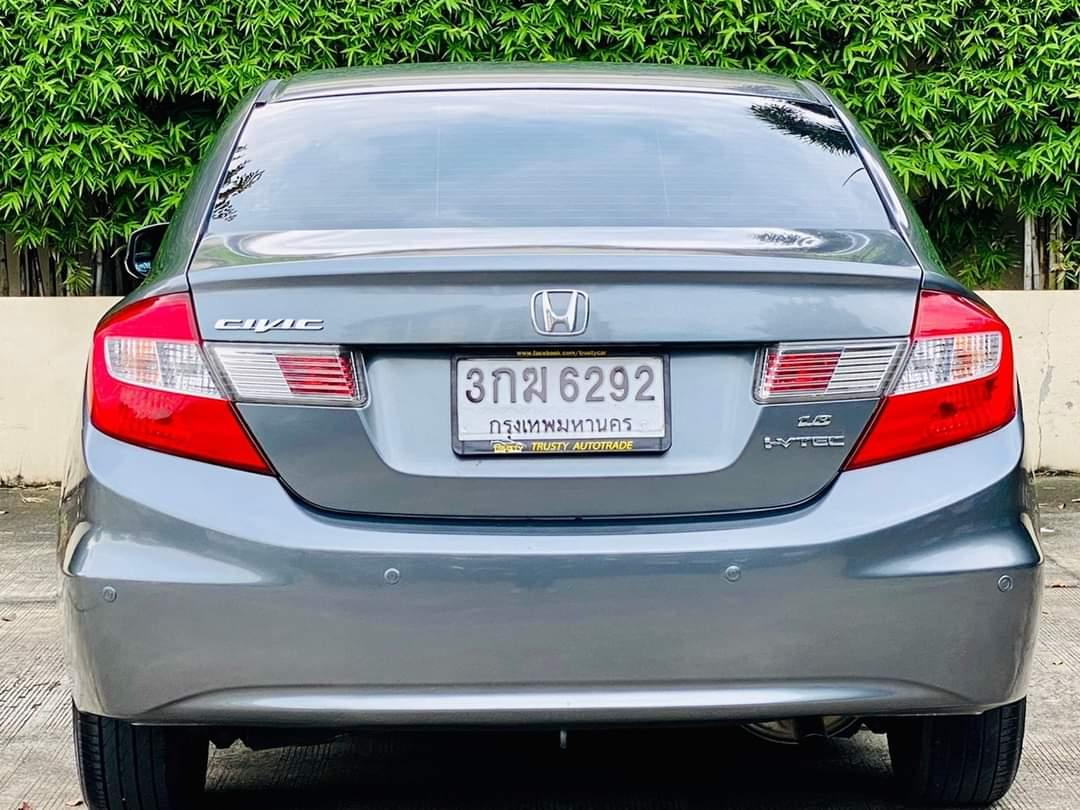license-plate: (449, 350, 672, 460)
